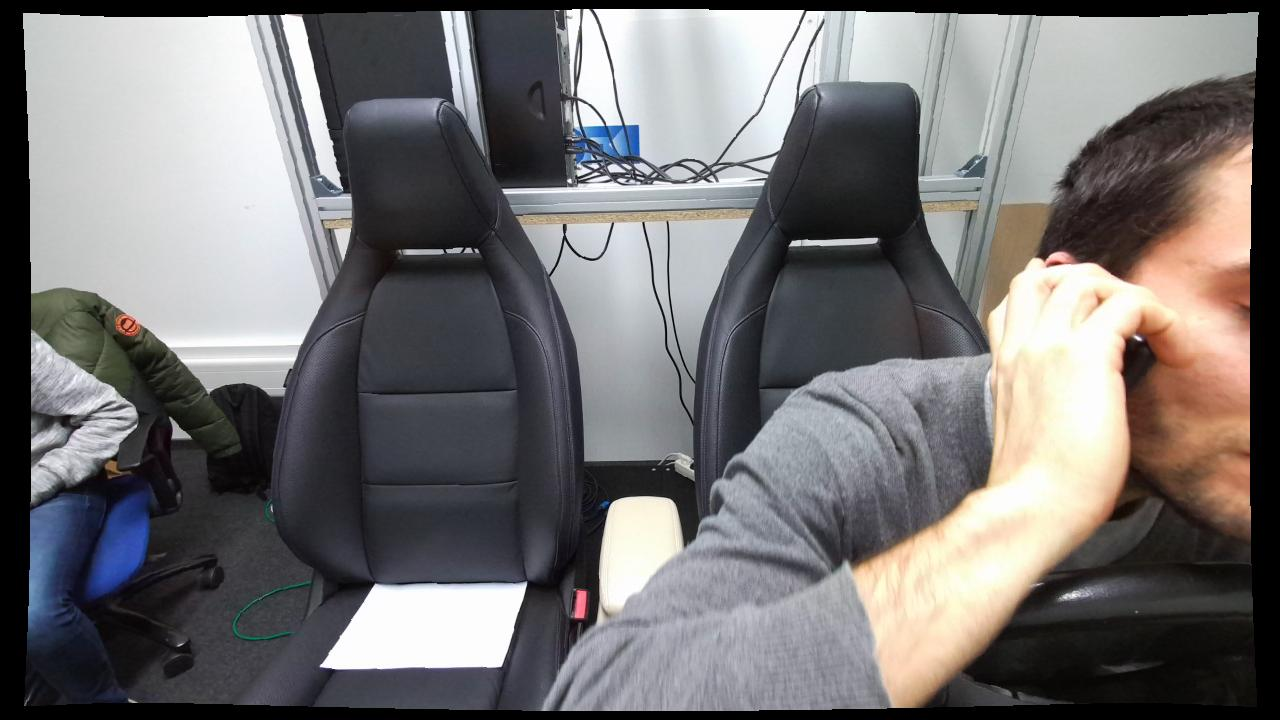Distracted: (545, 75, 1255, 711)
PhoneUse: (984, 229, 1179, 437)
